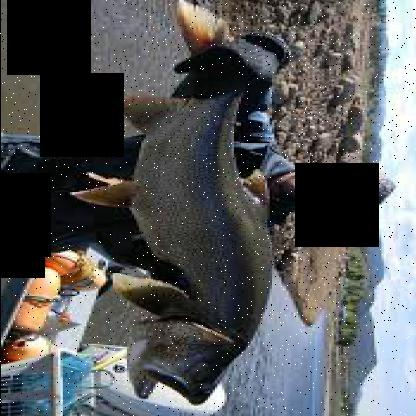fish: (76, 5, 280, 397)
